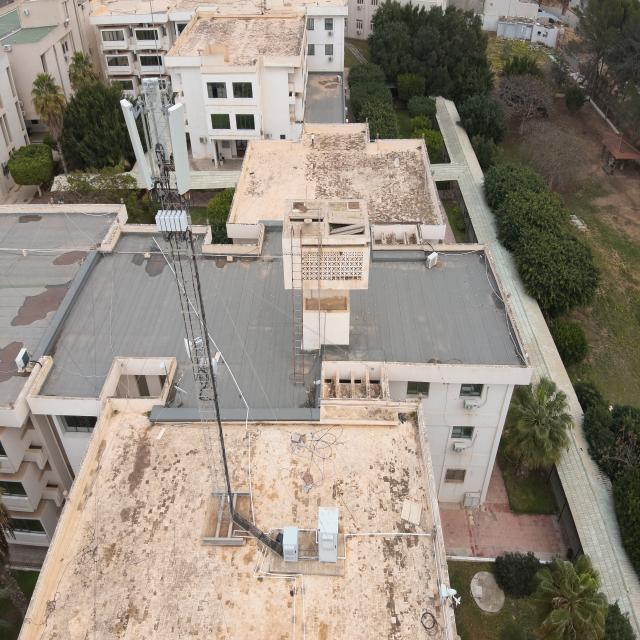antenna: (120, 98, 154, 192), (140, 75, 172, 167), (167, 100, 192, 198)
lighnig-rad: (148, 0, 166, 91)
microware-dish: (182, 336, 204, 360)
power-box: (198, 354, 219, 379)
radio-unit: (153, 206, 189, 233)
